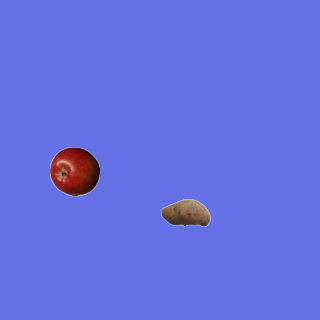Apple Braeburn: (49, 146, 99, 196)
Potato Sweet: (160, 187, 210, 237)
